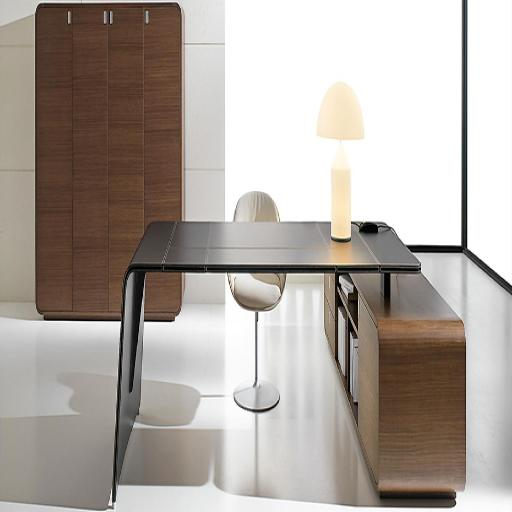chair: (227, 191, 286, 414)
desk: (111, 222, 466, 508)
wall: (0, 0, 225, 305)
